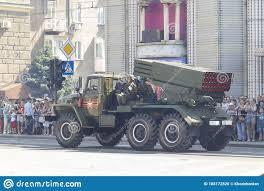MIL_SAM_TEL: (52, 58, 234, 154)
